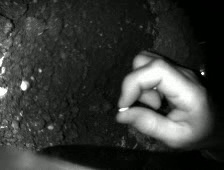corn: (18, 78, 32, 92), (116, 104, 132, 113)
